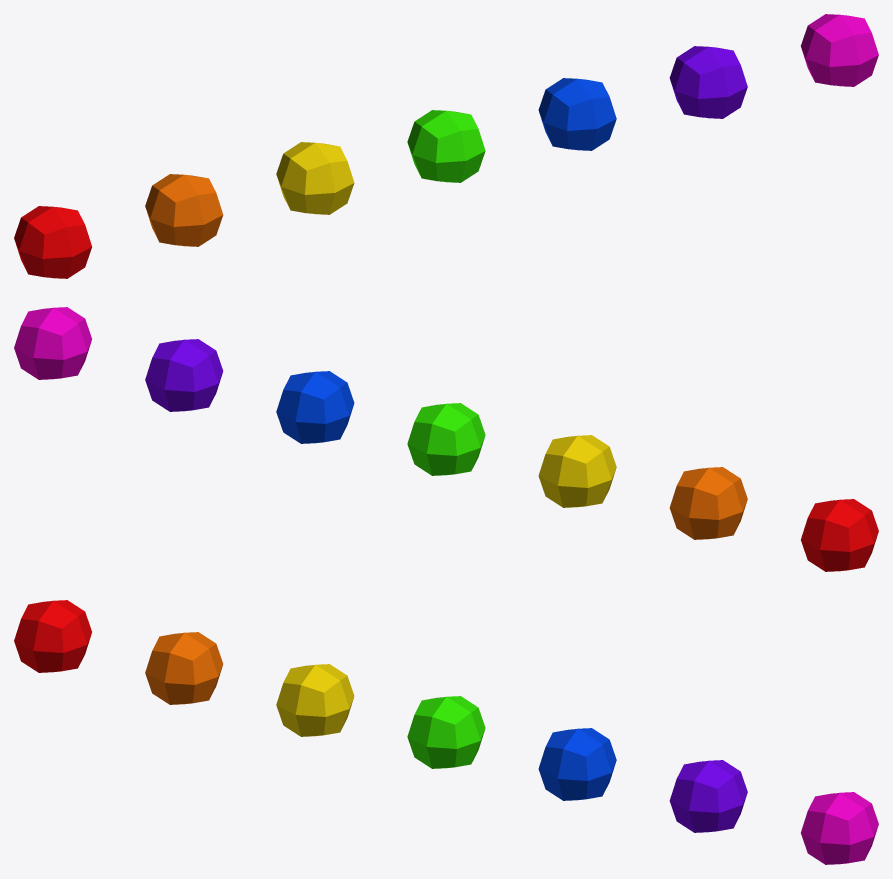
The model's file is Pelotas.fbx.
3 views of the same model, one above another, from view 1: azimuth 30°, elevation 25°; view 2: azimuth 150°, elevation 25°; view 3: azimuth 330°, elevation 25° (orthographic).
Visible parts, largest first — view 1: pelota3, pelota4, pelota5, pelota7, pelota1, pelota2, pelota6; view 2: pelota3, pelota4, pelota5, pelota1, pelota7, pelota2, pelota6; view 3: pelota3, pelota4, pelota5, pelota7, pelota1, pelota2, pelota6.
Part boxes in pixels (x1=…): pelota3: x1=276, y1=142, x2=354, y2=214; pelota4: x1=407, y1=110, x2=485, y2=182; pelota5: x1=538, y1=78, x2=616, y2=150; pelota7: x1=801, y1=14, x2=878, y2=86; pelota1: x1=14, y1=206, x2=91, y2=278; pelota2: x1=145, y1=174, x2=223, y2=246; pelota6: x1=669, y1=46, x2=747, y2=118; pelota3: x1=538, y1=435, x2=616, y2=507; pelota4: x1=407, y1=403, x2=485, y2=475; pelota5: x1=276, y1=371, x2=354, y2=443; pelota1: x1=801, y1=499, x2=878, y2=571; pelota7: x1=14, y1=307, x2=91, y2=379; pelota2: x1=669, y1=467, x2=747, y2=539; pelota6: x1=145, y1=339, x2=223, y2=411; pelota3: x1=276, y1=664, x2=354, y2=736; pelota4: x1=407, y1=696, x2=485, y2=768; pelota5: x1=538, y1=728, x2=616, y2=800; pelota7: x1=801, y1=792, x2=878, y2=864; pelota1: x1=14, y1=600, x2=91, y2=672; pelota2: x1=145, y1=632, x2=223, y2=704; pelota6: x1=669, y1=760, x2=747, y2=832.
Bounding box in the file's own units: 1.96 × 0.1563 × 0.1563.
